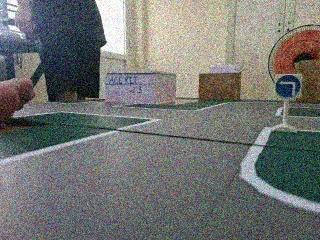left: (270, 70, 306, 102)
